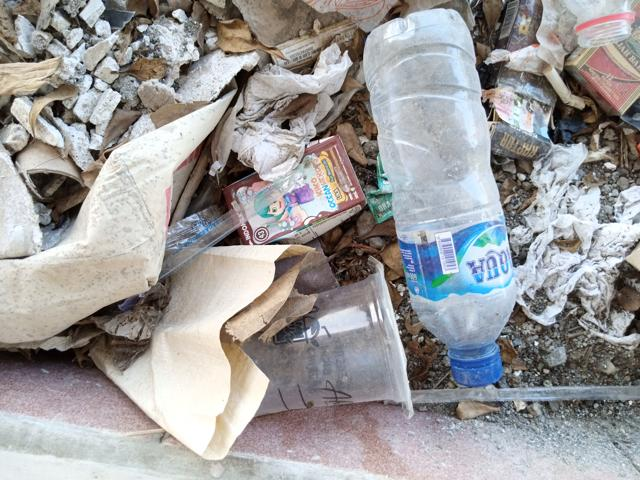botol_kaca: (357, 4, 533, 394)
